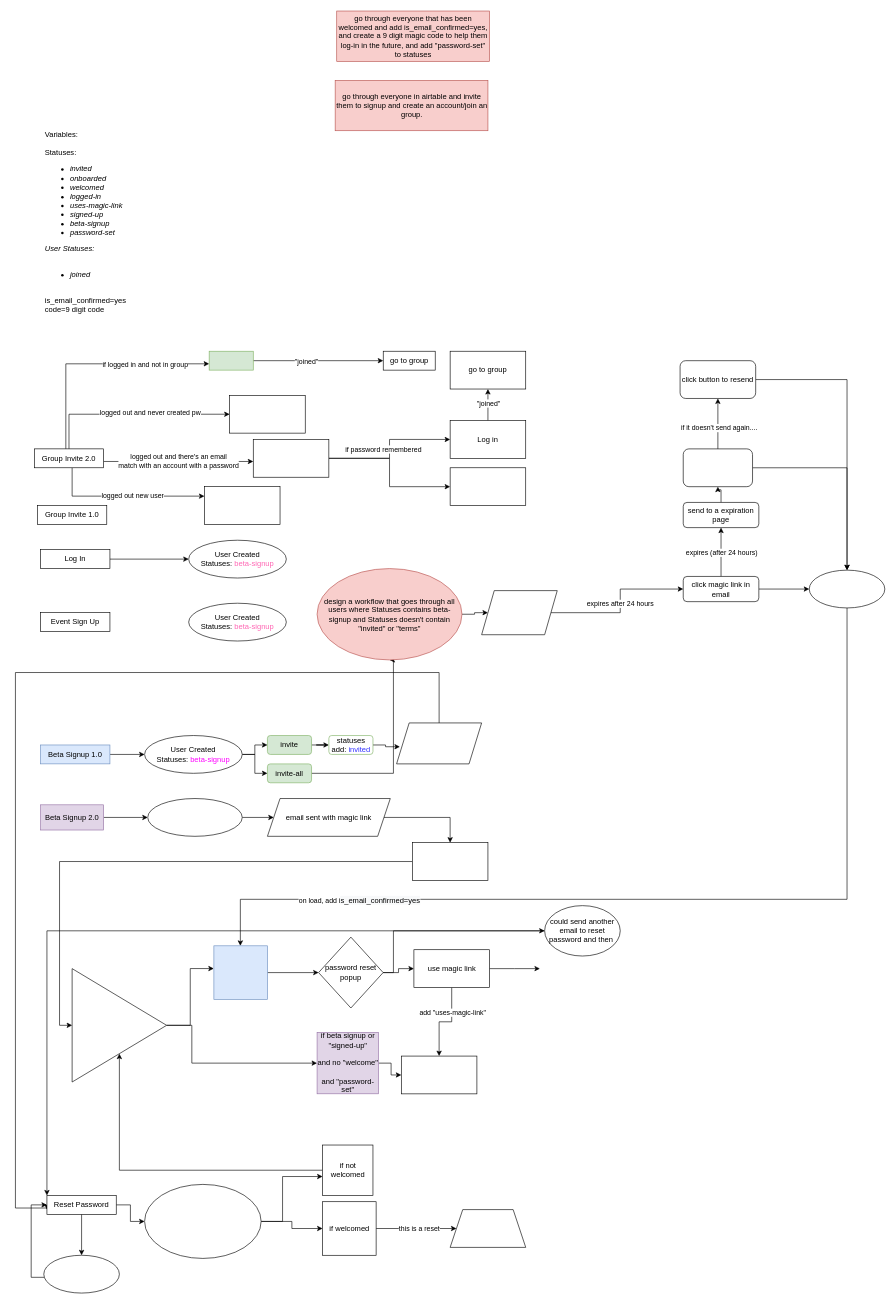
Some shapes in this 896 by 1304 pixel diagram are drawn without their labels. Here are the shapes that lost their labels. From the top down, the box of each, then its label:
(209, 351, 253, 370): join group
(253, 439, 329, 477): show password fields
(683, 448, 753, 487): second email sent
(809, 570, 885, 608): log in and go to onboarding
(481, 590, 557, 635): send emails to all users
(396, 722, 482, 764): email sent with reset password link
(147, 798, 242, 836): User Created Statuses: signed-up, password-set
(412, 842, 488, 880): logged in and sent to the onboarding page Statuses: + logged-in
(213, 945, 267, 999): if "beta-signup" and no "welcome" and no "password-set"
(72, 968, 167, 1082): Onboarding Page On load add is_email_confirmed if doesn't exist
(401, 1055, 477, 1094): continue with onboarding add "logged-in"
(144, 1184, 261, 1258): Add password-set if it doesn't exist and set is_email_confirmed=yes
(450, 1209, 526, 1247): go home
(43, 1255, 119, 1293): if expired resend email
